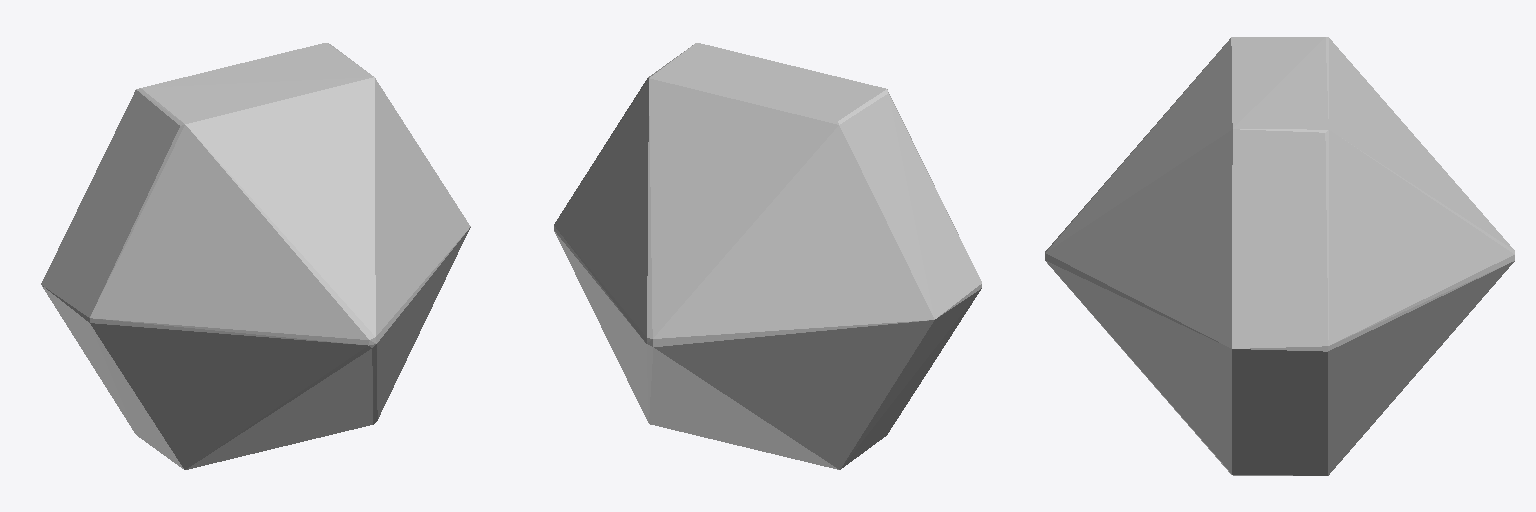
File: Diamond_Hex_decimated_convex.obj
3 renders of one model, left to right at view 1: azimuth 30°, elevation 25°; view 2: azimuth 150°, elevation 25°; view 3: azimuth 270°, elevation 25°, orthographic.
Visible parts, largest first — view 1: my_mesh_Diamond_Hex; view 2: my_mesh_Diamond_Hex; view 3: my_mesh_Diamond_Hex.
Part boxes in pixels (x1,y1,x2,y2): my_mesh_Diamond_Hex: (41, 43, 470, 469); my_mesh_Diamond_Hex: (554, 43, 981, 469); my_mesh_Diamond_Hex: (1045, 37, 1514, 475).
Bounding box in the file's own units: 29.08 × 25.31 × 31.06.